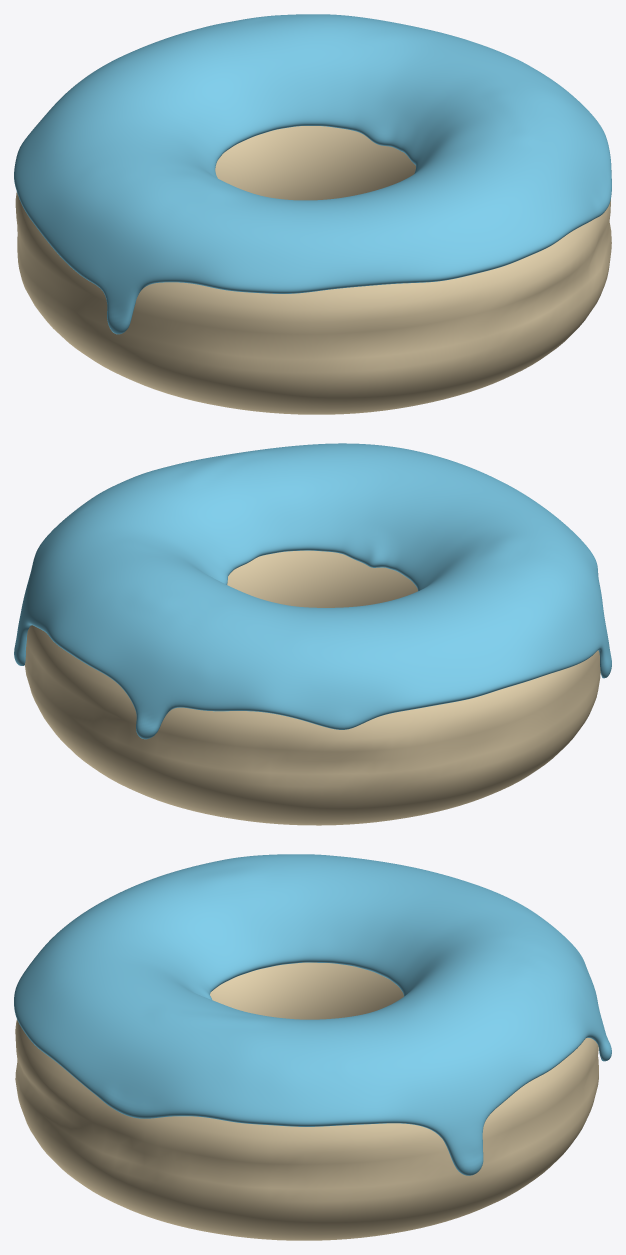
Rendered from donut.glb.
3 views of the same model, one above another, from view 1: azimuth 30°, elevation 25°; view 2: azimuth 150°, elevation 25°; view 3: azimuth 270°, elevation 25° (orthographic). The views are drawn at different scales.
Parts seen in each view (by area): view 1: icing, donut; view 2: icing, donut; view 3: icing, donut.
Boxes of the visible parts, x1,y1,x2,y2 form: icing: [14, 14, 611, 334]; donut: [15, 126, 611, 414]; icing: [14, 443, 611, 739]; donut: [25, 550, 600, 825]; icing: [14, 854, 611, 1175]; donut: [15, 962, 598, 1240].
Bounding box in the file's own units: 0.1496 × 0.0588 × 0.1512.
